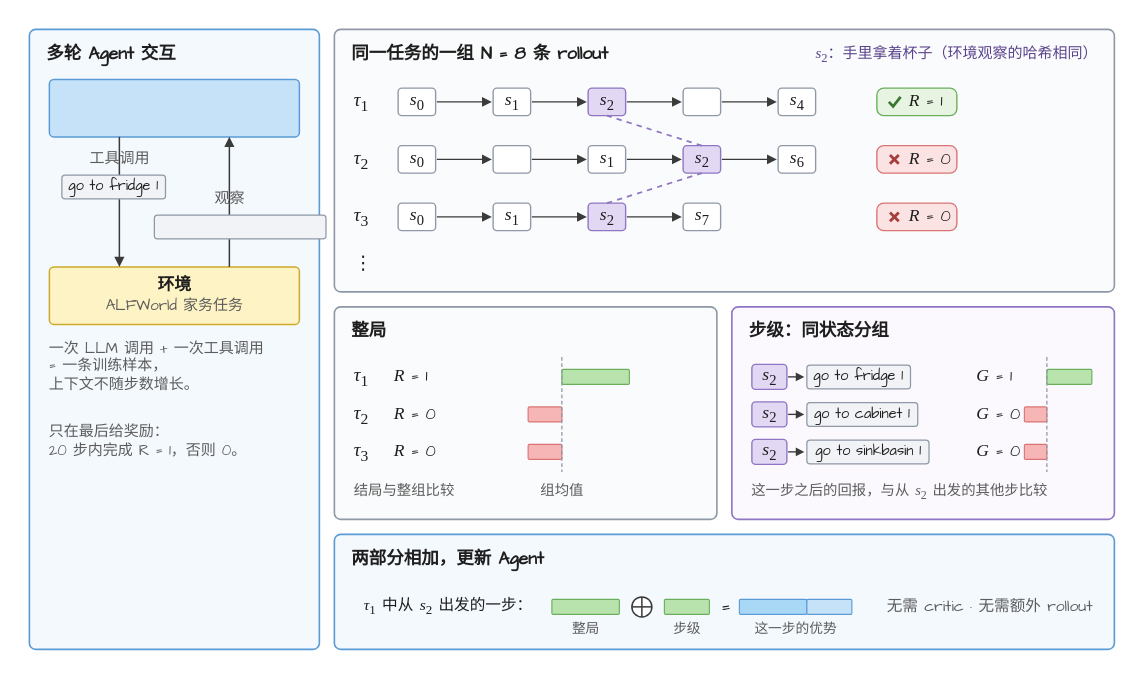
The diagram is 1143 pixels wide and 678 high, and some of its shapes have lost their labels. The shapes that lost their labels are listed below. From the top down, each one's box as (x1, y1, x2, y2) in pixels, then its label:
(48, 78, 300, 137): LLM Agent Qwen3-4B
(682, 87, 721, 116): s 3
(492, 144, 531, 173): s 5
(153, 214, 326, 239): “You arrive at fridge 1.”
